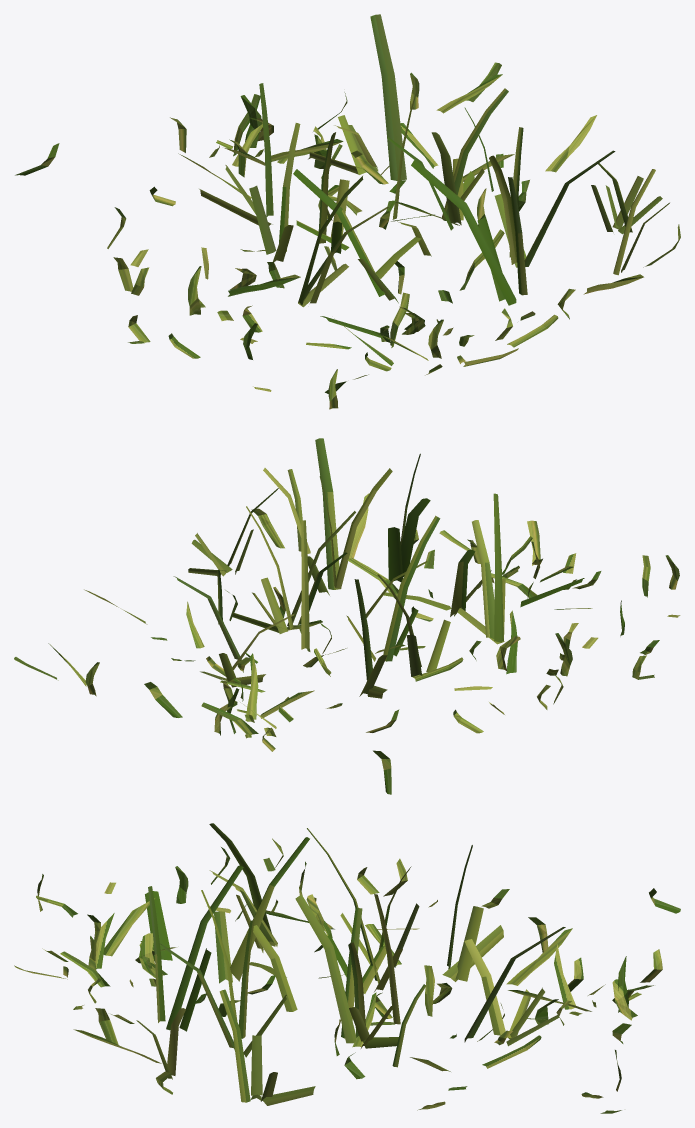
Rendered from medium_001_lod1.gltf.
3 renders of one model, top to bottom at view 1: azimuth 30°, elevation 25°; view 2: azimuth 150°, elevation 25°; view 3: azimuth 270°, elevation 25°, orthographic. The views are drawn at different scales.
Visible parts, largest first — view 1: medium.001; view 2: medium.001; view 3: medium.001.
Part boxes in pixels (left/top/right/bottom): medium.001: left=15, top=14, right=680, bottom=409; medium.001: left=14, top=438, right=680, bottom=794; medium.001: left=14, top=823, right=680, bottom=1113.
Size of the model in its own units: 0.44 by 0.114 by 0.4523.
2 materials, 2 textured.
